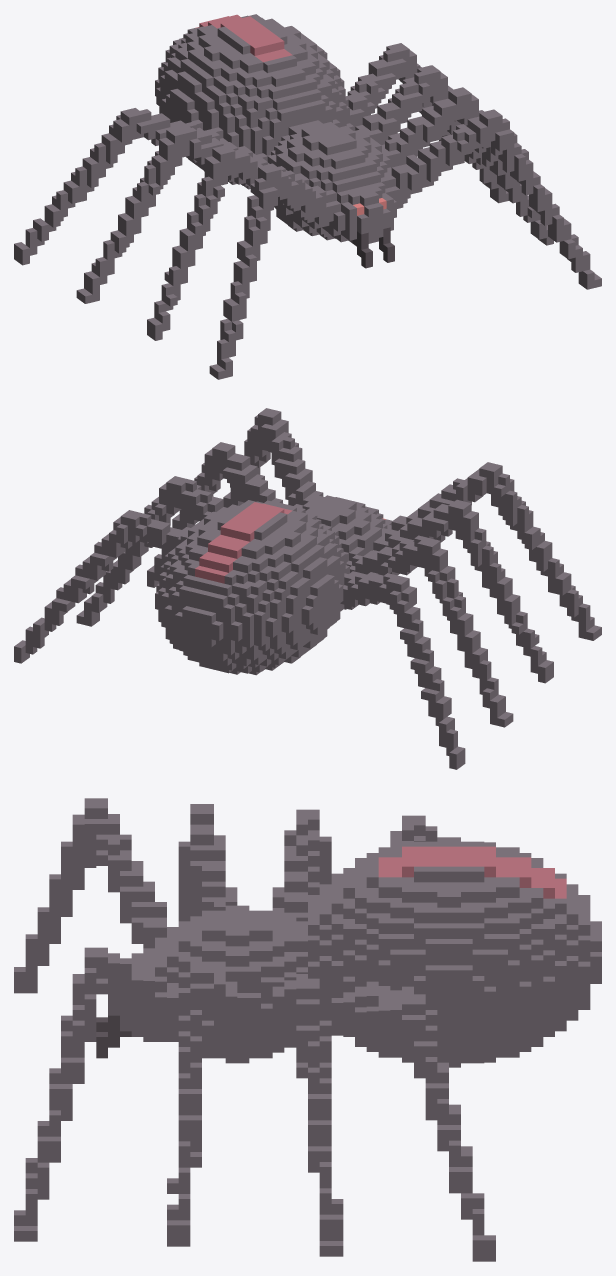
Rendered from spider.glb.
3 renders of one model, top to bottom at view 1: azimuth 30°, elevation 25°; view 2: azimuth 150°, elevation 25°; view 3: azimuth 270°, elevation 25°, orthographic. The views are drawn at different scales.
Parts seen in each view (by area): view 1: item; view 2: item; view 3: item.
Boxes of the visible parts, left/top/right/bottom form: item: left=14, top=14, right=601, bottom=379; item: left=14, top=408, right=601, bottom=769; item: left=14, top=798, right=601, bottom=1261.
Bounding box in the file's own units: 60 × 24 × 50.
